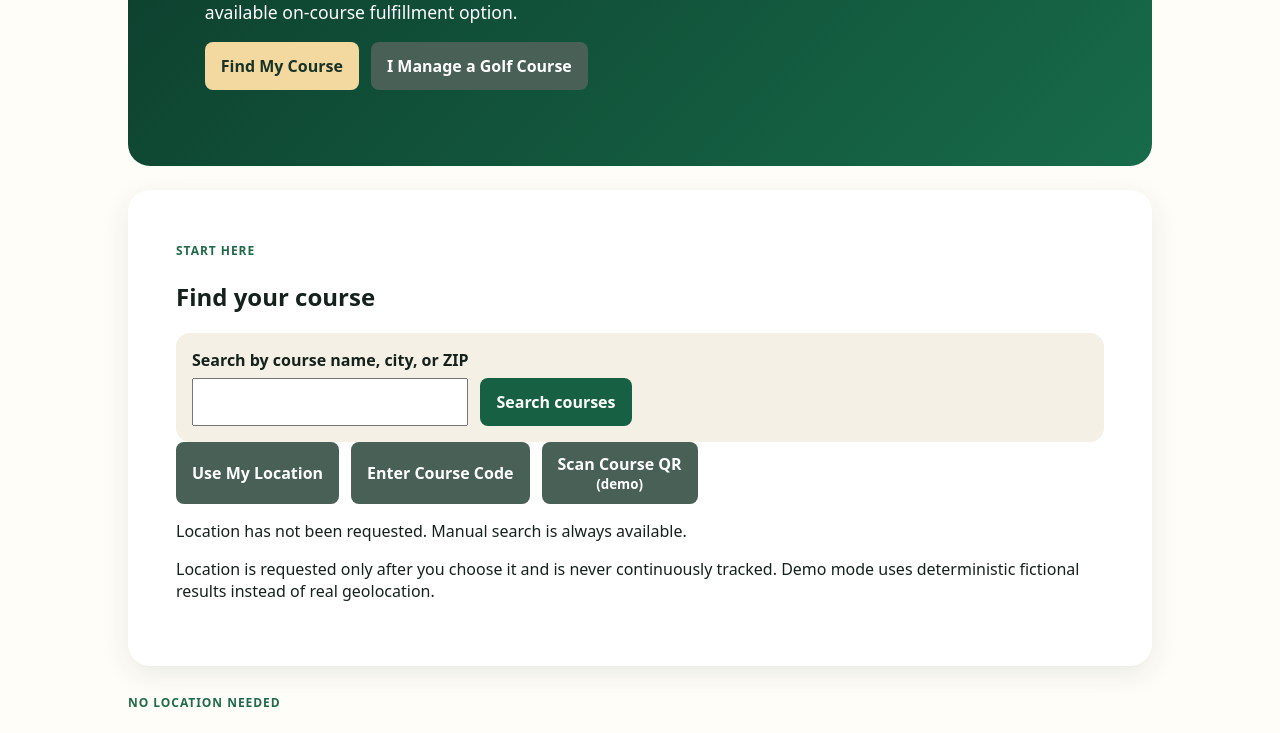
Test: location-first discovery › preserves manual search without geolocation or Permissions API
(page scrolled)
Type "River" into the search field labelled "Search by course name, city, or ZIP". click: [330, 402]
box: [192, 378, 468, 426]
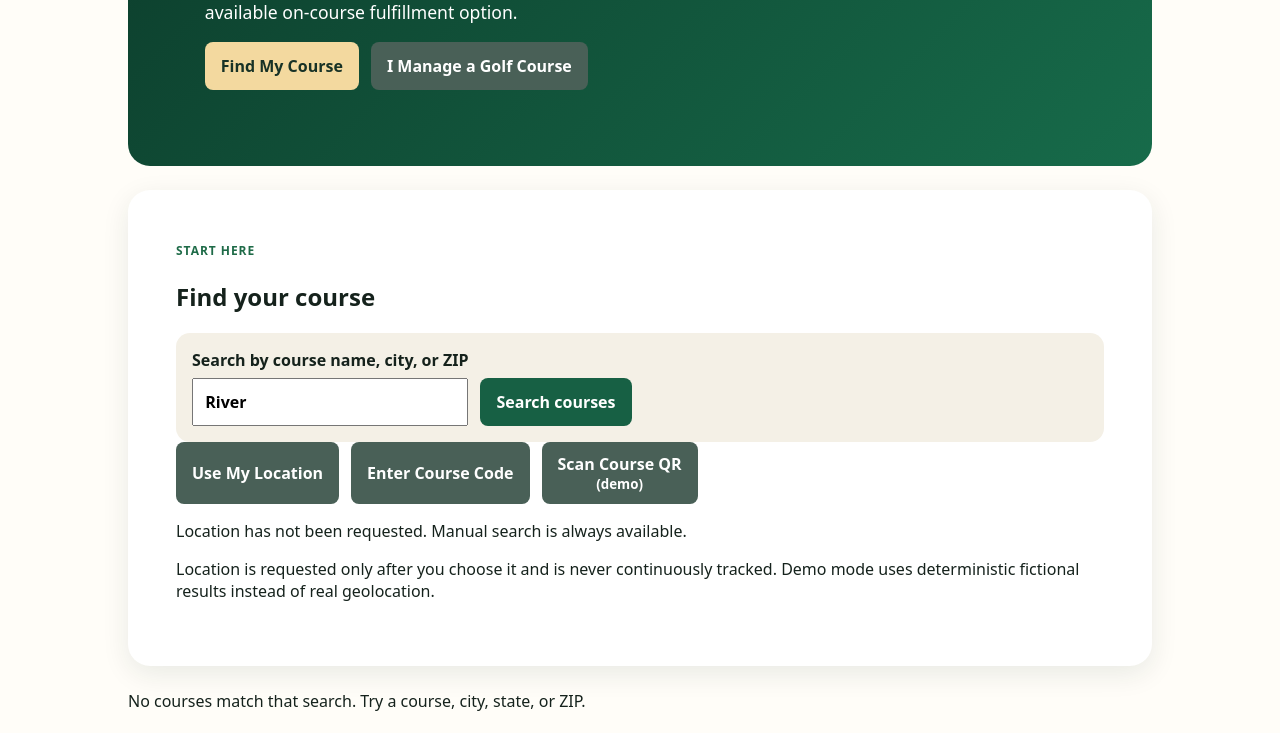
Click the button "Search courses". click: [556, 402]
box: [480, 378, 632, 426]
(page scrolled)
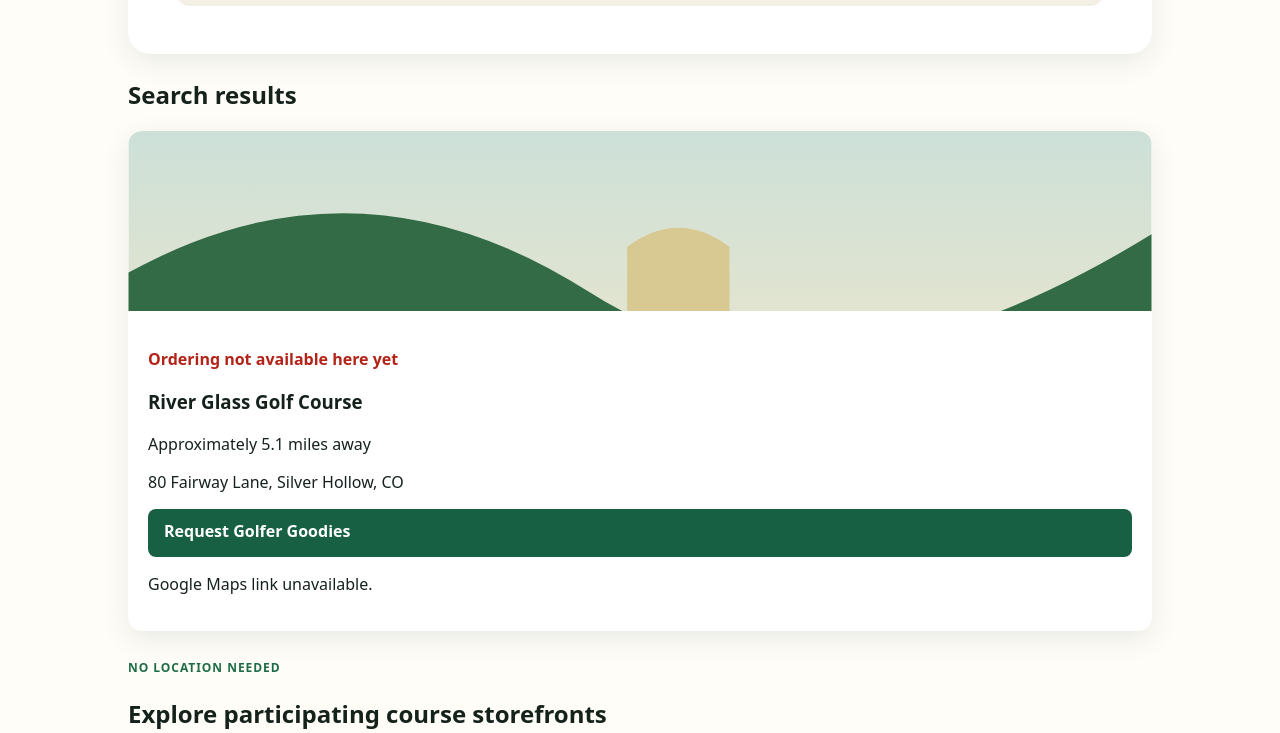
Expected: the heading "River Glass Golf Course" is shown, [148, 389, 363, 414]
